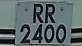0: (55, 23, 68, 46), (43, 23, 56, 45)
2: (19, 24, 33, 46)
4: (32, 23, 44, 45)
R: (32, 1, 45, 27), (45, 2, 57, 26)
